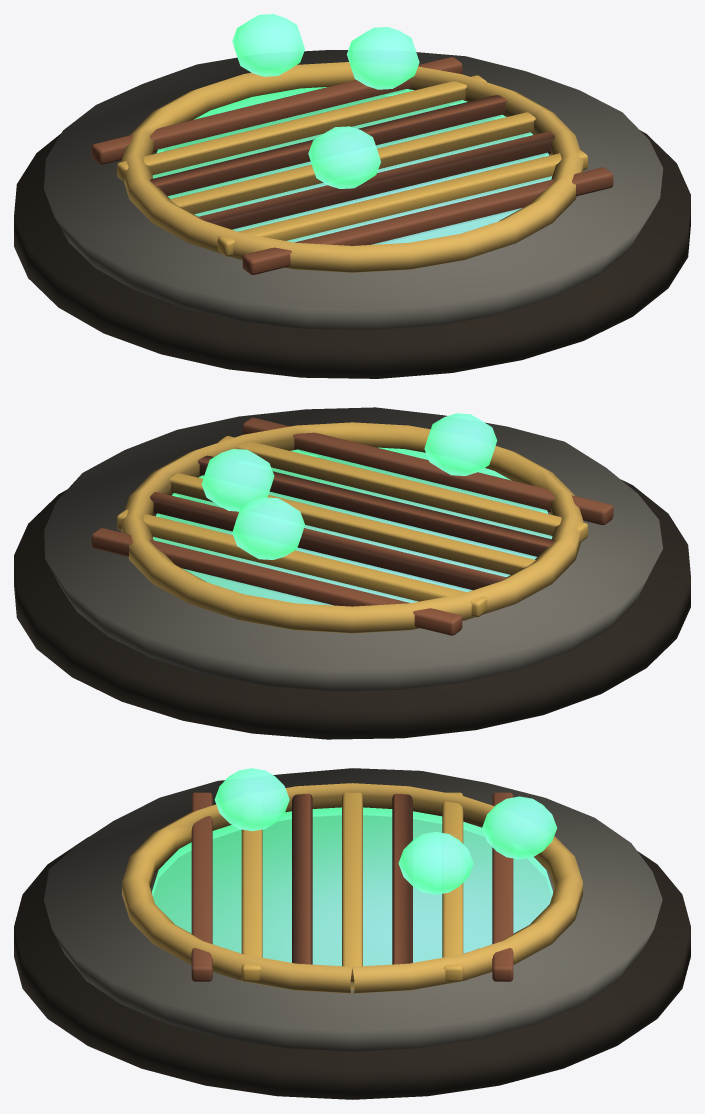
Rendered from kit_trap2.glb.
3 renders of one model, top to bottom at view 1: azimuth 30°, elevation 25°; view 2: azimuth 150°, elevation 25°; view 3: azimuth 270°, elevation 25°, orthographic.
Visible parts, largest first — view 1: kit_trap2; view 2: kit_trap2; view 3: kit_trap2.
Boxes of the visible parts, x1,y1,x2,y2 form: kit_trap2: (14, 14, 690, 378); kit_trap2: (14, 407, 690, 739); kit_trap2: (14, 768, 690, 1099).
Bounding box in the file's own units: 0.81 × 0.206 × 0.81.
